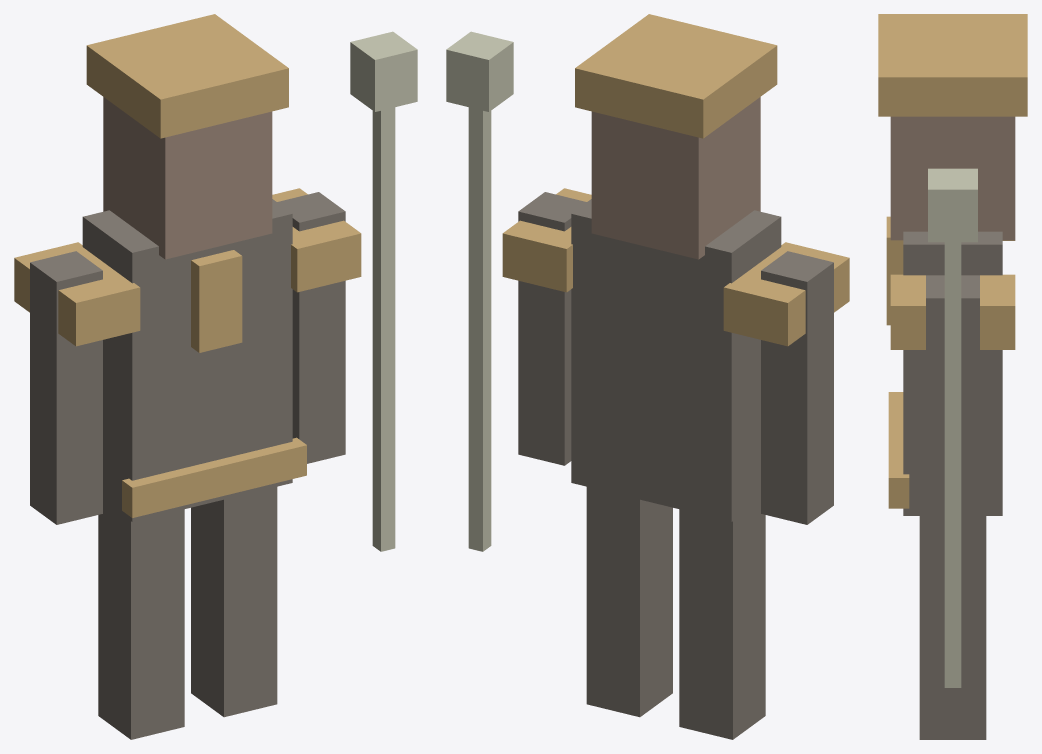
Rendered from 03_talia_holloway_ranger_at_compass.glb.
The picture shows the model from 3 angles, left to right: view 1: azimuth 30°, elevation 25°; view 2: azimuth 150°, elevation 25°; view 3: azimuth 270°, elevation 25°; orthographic projection.
Parts seen in each view (by area): view 1: Talia Holloway, Ranger at Compass; view 2: Talia Holloway, Ranger at Compass; view 3: Talia Holloway, Ranger at Compass.
Part boxes in pixels (bbox=[...]): Talia Holloway, Ranger at Compass: bbox=[14, 14, 417, 739]; Talia Holloway, Ranger at Compass: bbox=[446, 14, 849, 739]; Talia Holloway, Ranger at Compass: bbox=[878, 14, 1027, 739].
Size of the model in its own units: 0.9665 by 1.67 by 0.3428.
